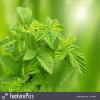Raspberry leaf: (69, 50, 87, 80), (37, 53, 54, 75), (16, 6, 33, 24), (22, 49, 38, 61), (53, 48, 65, 64)
